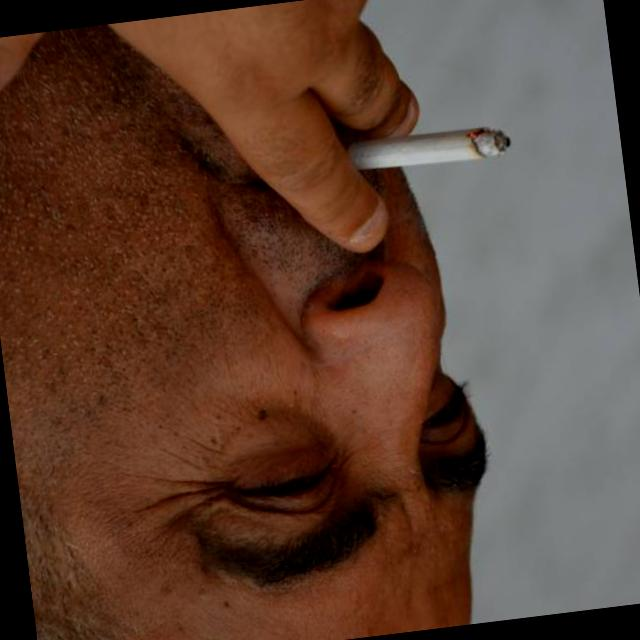cigarette: (300, 114, 518, 194)
